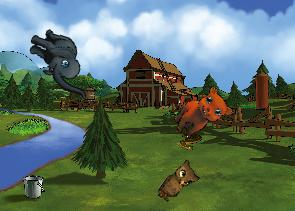bear: (168, 80, 237, 150)
elephant: (18, 25, 101, 99)
owl: (155, 156, 204, 210)
